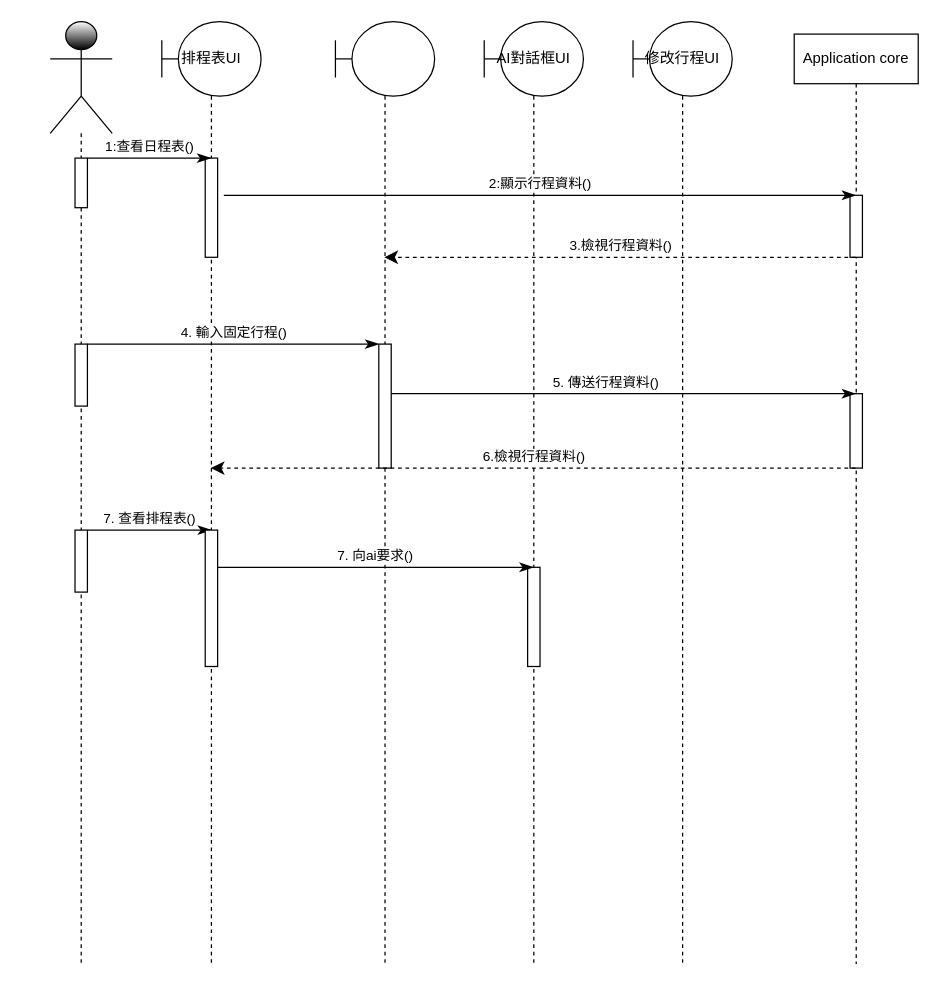
Some shapes in this 940 by 986 pixel diagram are drawn without their labels. The box of each missing label's shape, as (x1, y1, x2, y2) in pixels:
繁忙疏於管理的人: (49, 20, 112, 964)
輸入行程UI: (334, 20, 435, 964)
